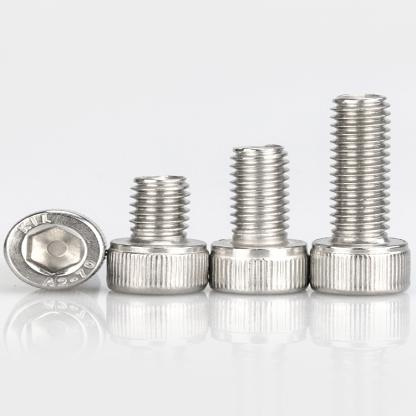FOD: (308, 90, 411, 302), (207, 143, 311, 300), (108, 173, 208, 300), (1, 207, 108, 290)
